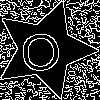O: (20, 24, 62, 71)
